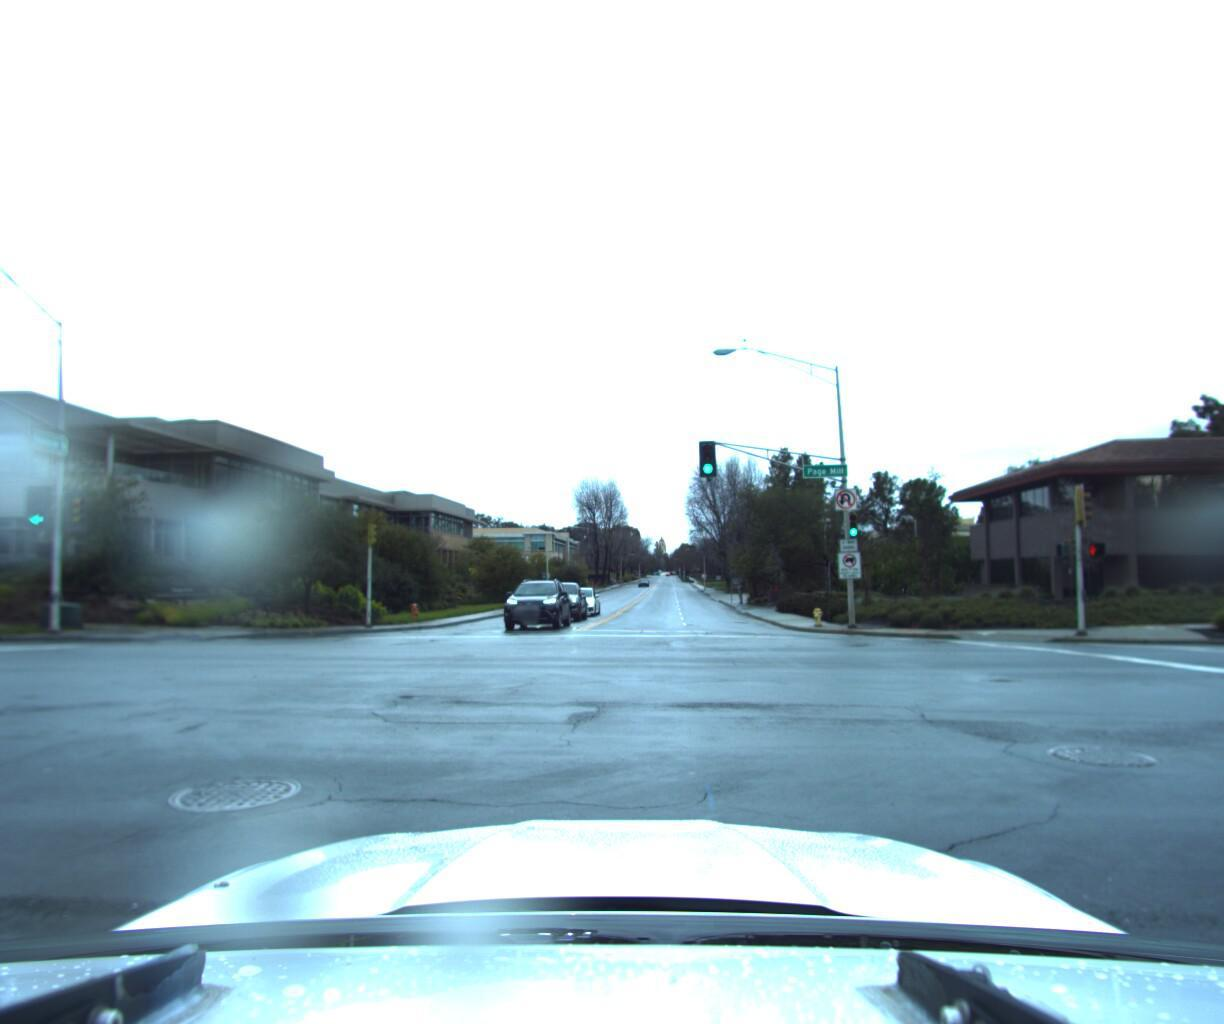car: (500, 576, 576, 631), (531, 578, 589, 624), (557, 583, 602, 615)
